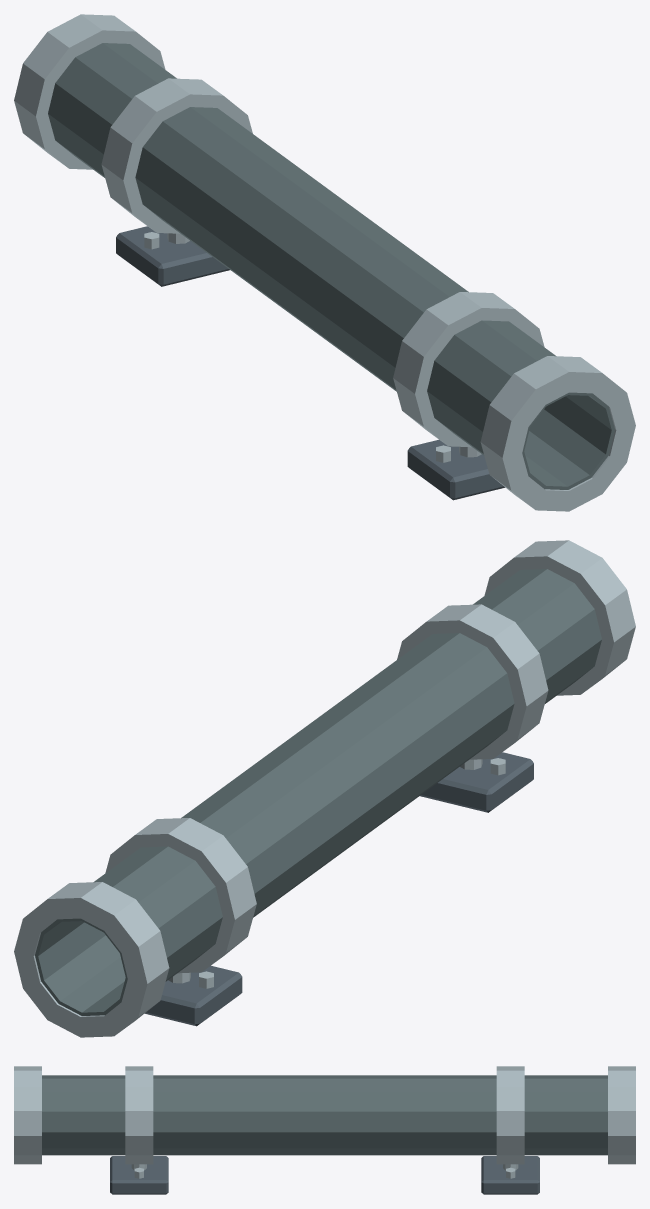
File: 01_pipe_sewer_floor_straight.glb
3 views of the same model, one above another, from view 1: azimuth 30°, elevation 25°; view 2: azimuth 150°, elevation 25°; view 3: azimuth 270°, elevation 25° (orthographic). The views are drawn at different scales.
Visible parts, largest first — view 1: 01_pipe_sewer_floor_straight; view 2: 01_pipe_sewer_floor_straight; view 3: 01_pipe_sewer_floor_straight.
Part boxes in pixels (bbox=[...]): 01_pipe_sewer_floor_straight: bbox=[14, 14, 635, 511]; 01_pipe_sewer_floor_straight: bbox=[14, 540, 635, 1037]; 01_pipe_sewer_floor_straight: bbox=[14, 1066, 635, 1194].
Bounding box in the file's own units: 0.3172 × 0.3986 × 2.01.
